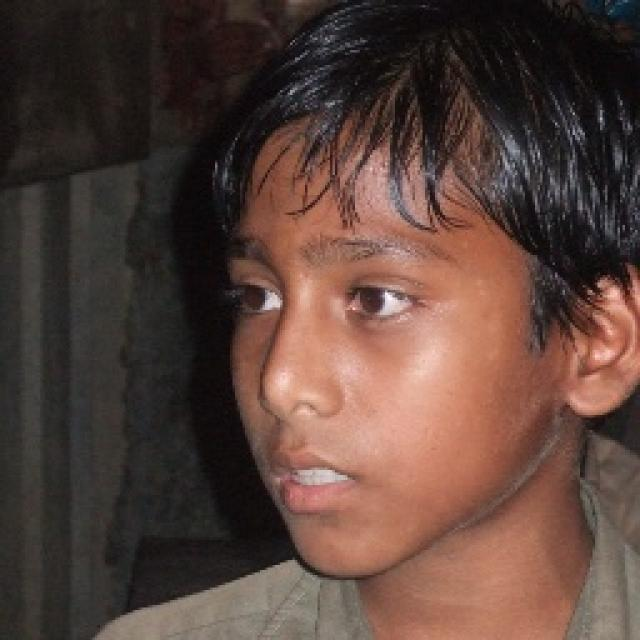earlobe: (565, 386, 626, 417)
eye: (348, 286, 420, 321), (229, 282, 286, 320)
nose: (262, 409, 336, 443)
wholeear: (565, 264, 640, 418)
